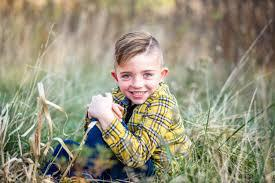child: (64, 28, 197, 183)
